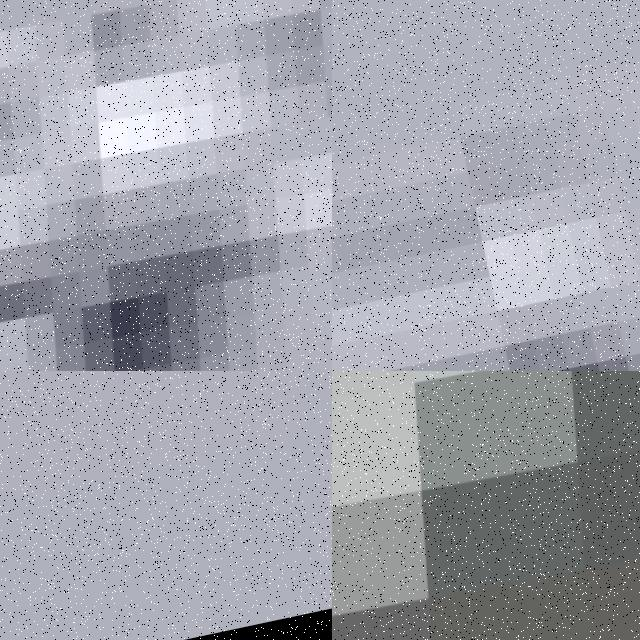0: (0, 0, 332, 371)
drone: (332, 371, 640, 640)
